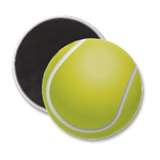tennis ball: (40, 37, 144, 142)
